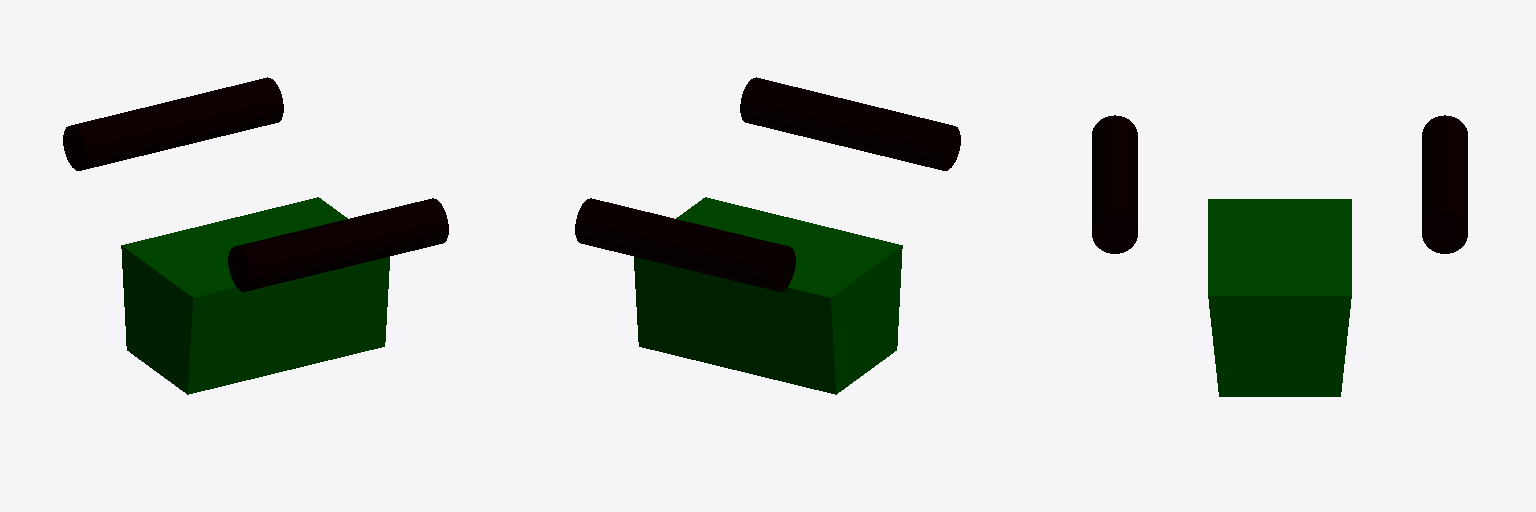
Rendered from track.obj.
3 views of the same model, side by side, from view 1: azimuth 30°, elevation 25°; view 2: azimuth 150°, elevation 25°; view 3: azimuth 270°, elevation 25° (orthographic).
Visible parts, largest first — view 1: Spine, Rails; view 2: Spine, Rails; view 3: Spine, Rails.
Boxes of the visible parts, x1=… form: Spine: x1=121, y1=197, x2=389, y2=394; Rails: x1=63, y1=77, x2=448, y2=291; Spine: x1=634, y1=197, x2=902, y2=394; Rails: x1=575, y1=77, x2=960, y2=291; Spine: x1=1208, y1=199, x2=1351, y2=396; Rails: x1=1092, y1=115, x2=1467, y2=253.
Size of the model in its own units: 1.06 by 0.9442 by 1.74.